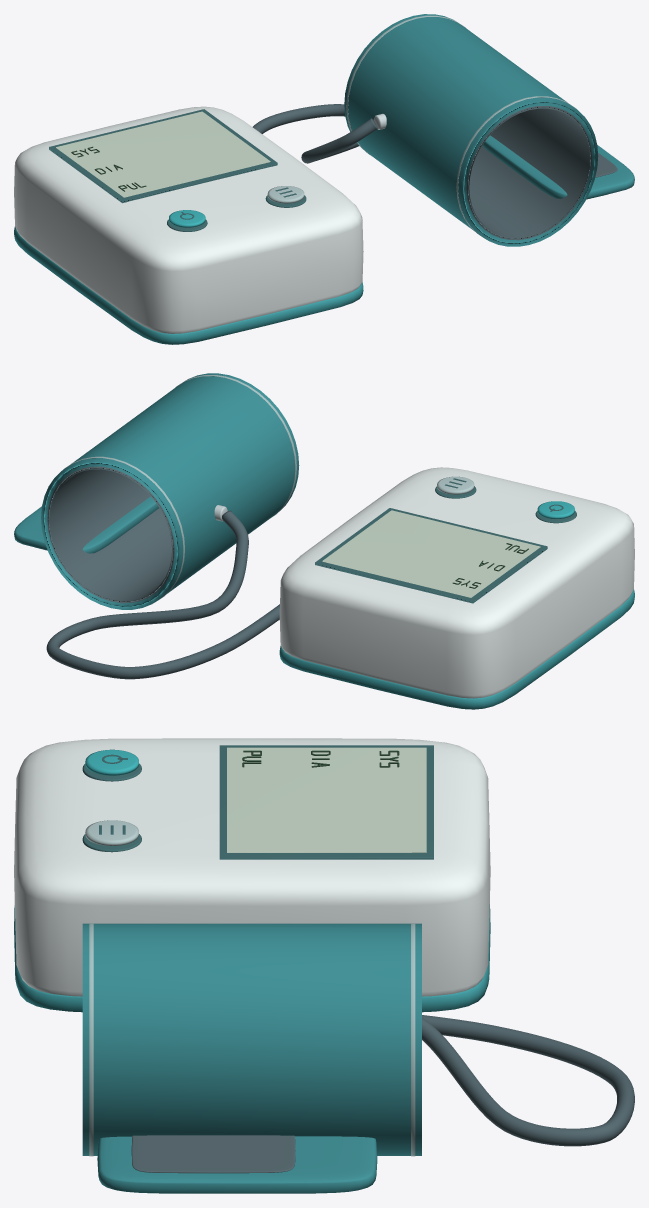
File: bp_monitor.glb
The picture shows the model from 3 angles, top to bottom: view 1: azimuth 30°, elevation 25°; view 2: azimuth 150°, elevation 25°; view 3: azimuth 270°, elevation 25°; orthographic projection. The views are drawn at different scales.
Visible parts, largest first — view 1: Monitor_Body, Cuff_Outer, Cuff_Inner, Screen_LCD, Monitor_Base, Cuff_Folded_Flap, Air_Hose, Screen_Frame, Start_Button_Cap, Memory_Button_Cap, Cuff_Stitch_Front; view 2: Monitor_Body, Cuff_Outer, Cuff_Inner, Screen_LCD, Air_Hose, Monitor_Base, Screen_Frame, Cuff_Folded_Flap, Memory_Button_Cap, Start_Button_Cap, Cuff_Stitch_Front, Cuff_Stitch_Back; view 3: Cuff_Outer, Monitor_Body, Screen_LCD, Cuff_Folded_Flap, Air_Hose, Cuff_Closure_Patch, Screen_Frame, Monitor_Base, Cuff_Stitch_Front, Cuff_Stitch_Back, Start_Button_Cap, Memory_Button_Cap.
Part boxes in pixels (x1=…): Monitor_Body: x1=14, y1=106, x2=363, y2=333; Cuff_Outer: x1=344, y1=14, x2=598, y2=246; Cuff_Inner: x1=466, y1=105, x2=591, y2=240; Screen_LCD: x1=56, y1=111, x2=270, y2=197; Monitor_Base: x1=14, y1=227, x2=363, y2=344; Cuff_Folded_Flap: x1=482, y1=135, x2=634, y2=199; Air_Hose: x1=253, y1=104, x2=377, y2=163; Screen_Frame: x1=49, y1=109, x2=277, y2=203; Start_Button_Cap: x1=169, y1=210, x2=205, y2=227; Memory_Button_Cap: x1=267, y1=186, x2=304, y2=203; Cuff_Stitch_Front: x1=456, y1=96, x2=576, y2=238; Monitor_Body: x1=279, y1=467, x2=634, y2=698; Cuff_Outer: x1=41, y1=373, x2=299, y2=609; Cuff_Inner: x1=47, y1=466, x2=174, y2=603; Screen_LCD: x1=322, y1=510, x2=540, y2=597; Air_Hose: x1=46, y1=510, x2=279, y2=679; Monitor_Base: x1=279, y1=589, x2=634, y2=709; Screen_Frame: x1=315, y1=508, x2=547, y2=603; Cuff_Folded_Flap: x1=14, y1=496, x2=158, y2=553; Memory_Button_Cap: x1=437, y1=476, x2=474, y2=494; Start_Button_Cap: x1=537, y1=501, x2=574, y2=518; Cuff_Stitch_Front: x1=175, y1=375, x2=296, y2=516; Cuff_Stitch_Back: x1=63, y1=456, x2=184, y2=600; Cuff_Outer: x1=82, y1=923, x2=421, y2=1155; Monitor_Body: x1=14, y1=738, x2=490, y2=996; Screen_LCD: x1=227, y1=747, x2=426, y2=852; Cuff_Folded_Flap: x1=97, y1=1136, x2=377, y2=1193; Air_Hose: x1=422, y1=1015, x2=634, y2=1146; Cuff_Closure_Patch: x1=131, y1=1135, x2=295, y2=1173; Screen_Frame: x1=219, y1=745, x2=433, y2=859; Monitor_Base: x1=14, y1=904, x2=490, y2=1012; Cuff_Stitch_Front: x1=89, y1=923, x2=93, y2=1156; Cuff_Stitch_Back: x1=411, y1=923, x2=415, y2=1156; Start_Button_Cap: x1=85, y1=749, x2=138, y2=775; Memory_Button_Cap: x1=85, y1=820, x2=138, y2=845.
Size of what is drawn, in the model's own units: 0.291 by 0.0783 by 0.2085.
